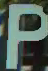Parking: (6, 1, 47, 69)
